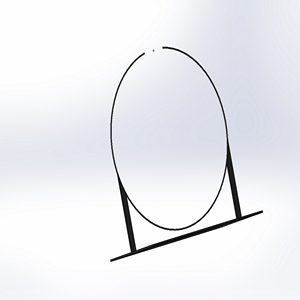circle: (107, 45, 264, 261)
